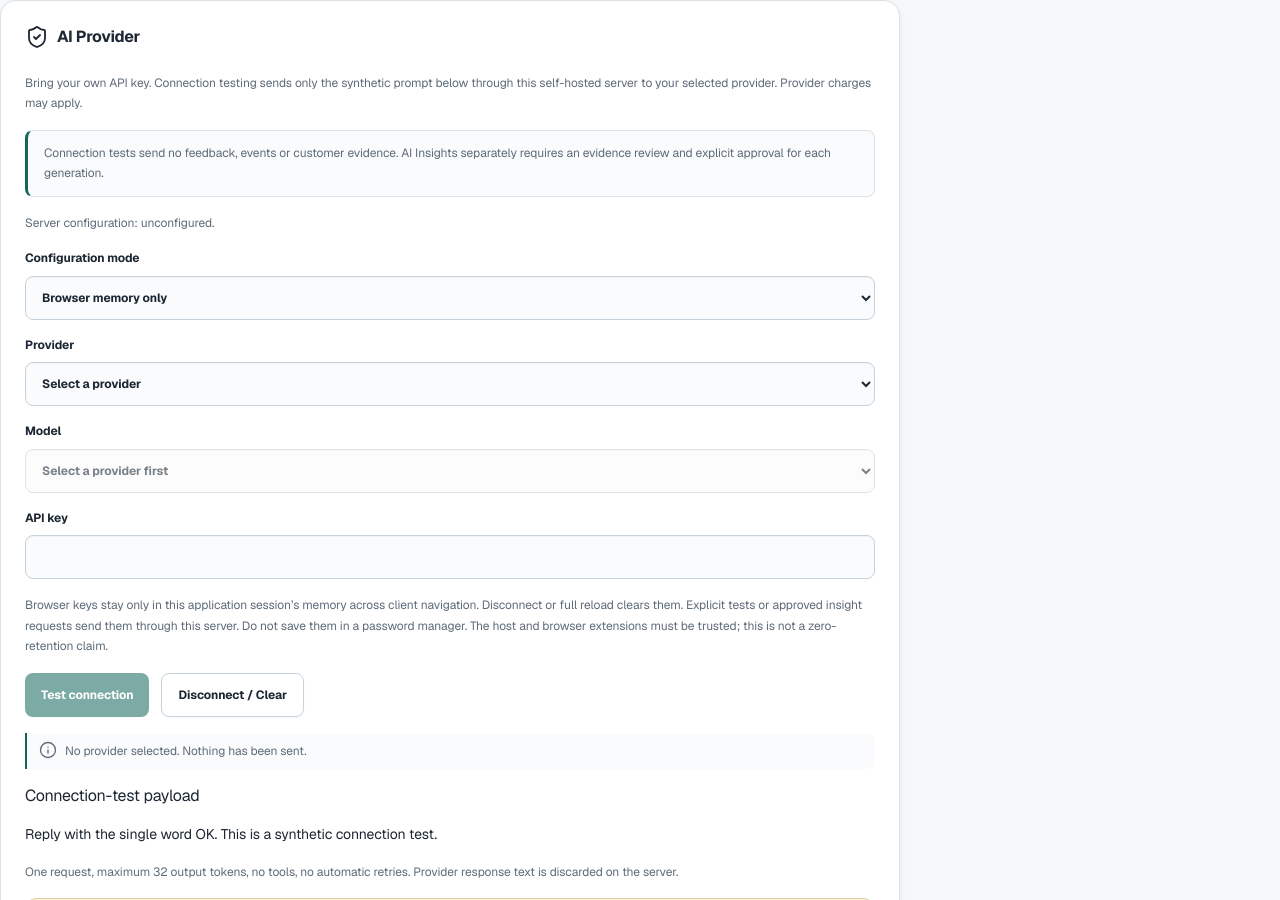
Scenario: typing never transmits or persists keys; explicit test posts only a bounded selection and key
Check: the text "Server configuration: unconfigured." is shown, box [25, 215, 214, 231]
Select "OpenAI" in the dropdown labelled "Provider": [450, 384] box [25, 362, 875, 406]
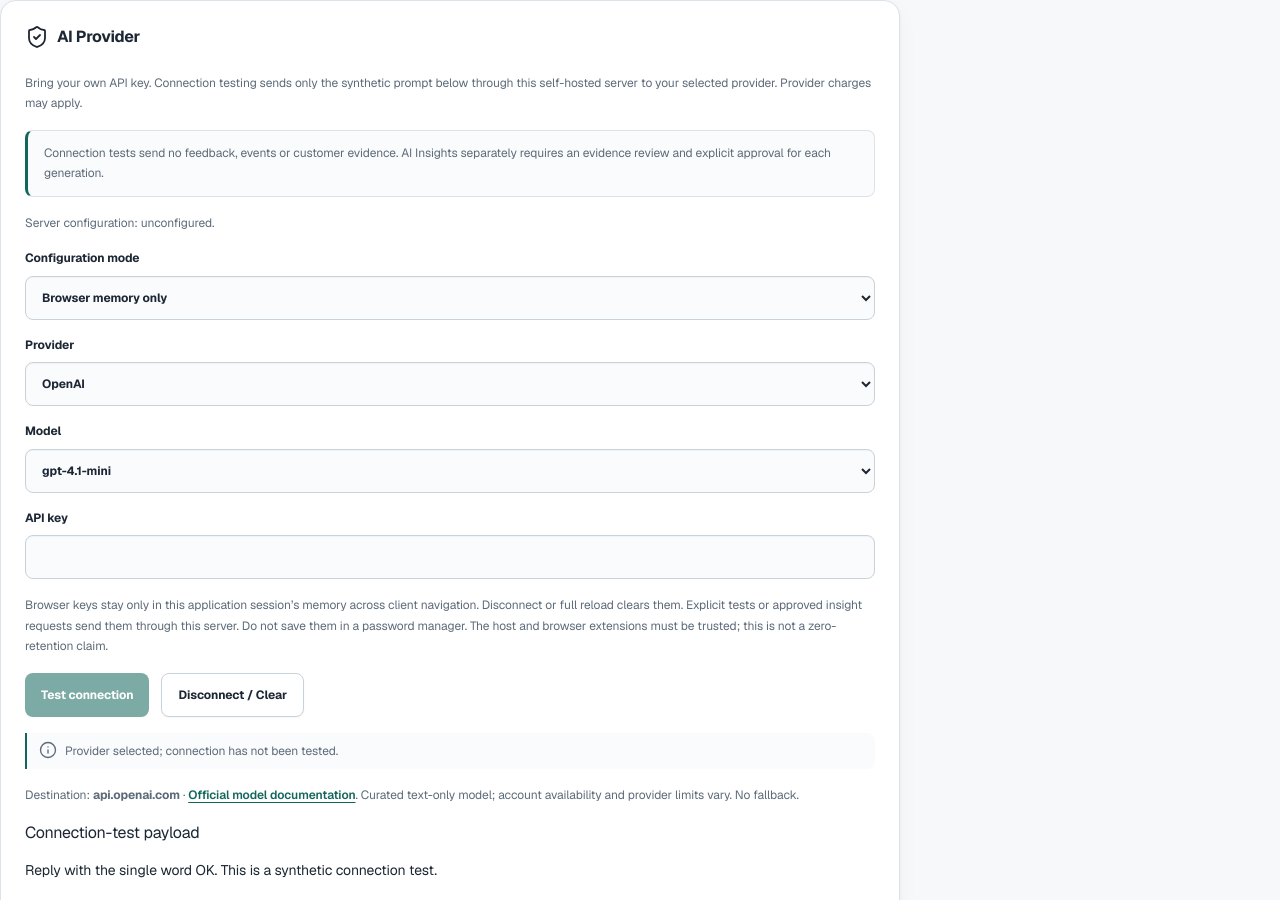
In the password field labelled "API key": [450, 557] box [25, 535, 875, 579], type "unit-test-value-not-a-credential"
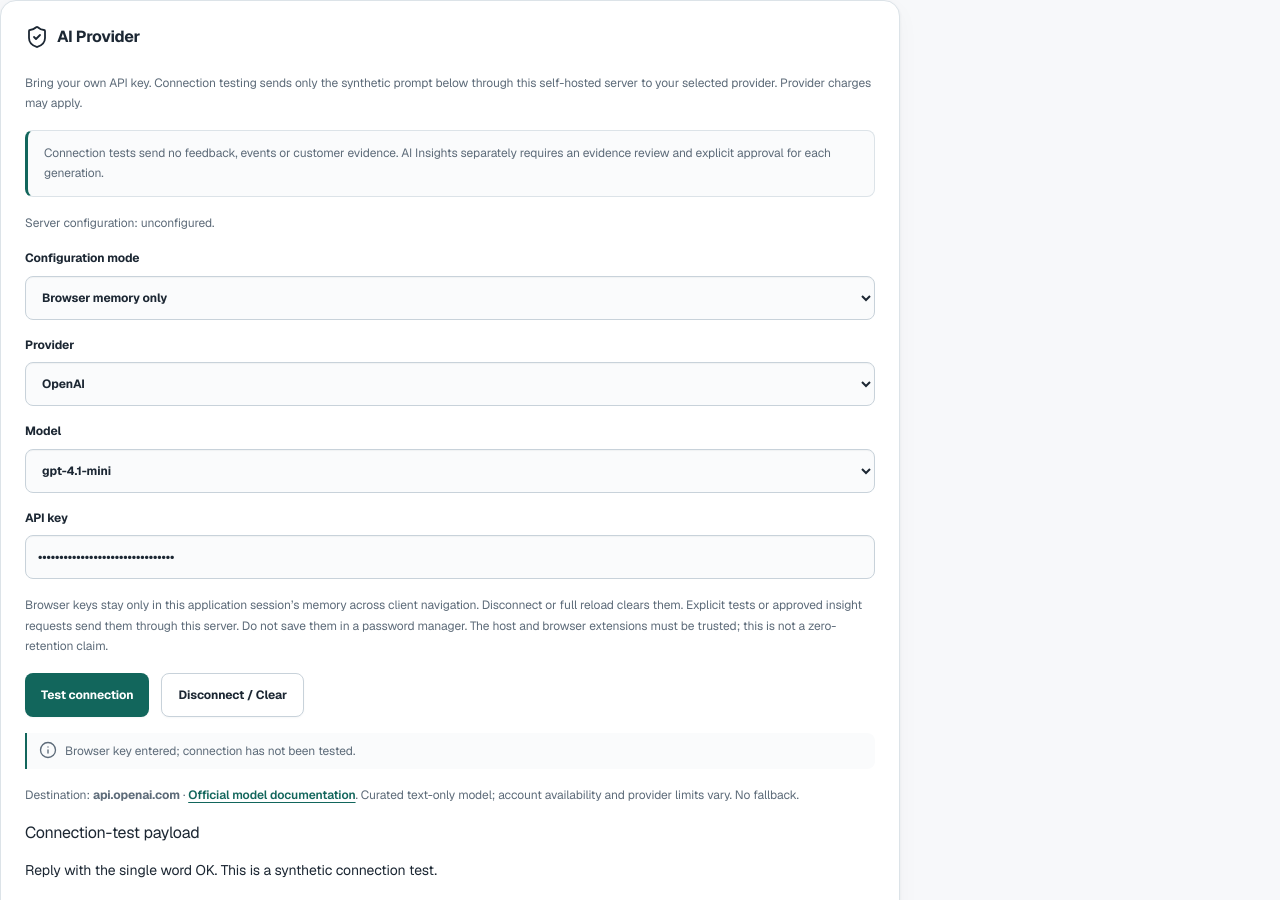
Click the button "Test connection": [87, 695] box [25, 673, 150, 717]
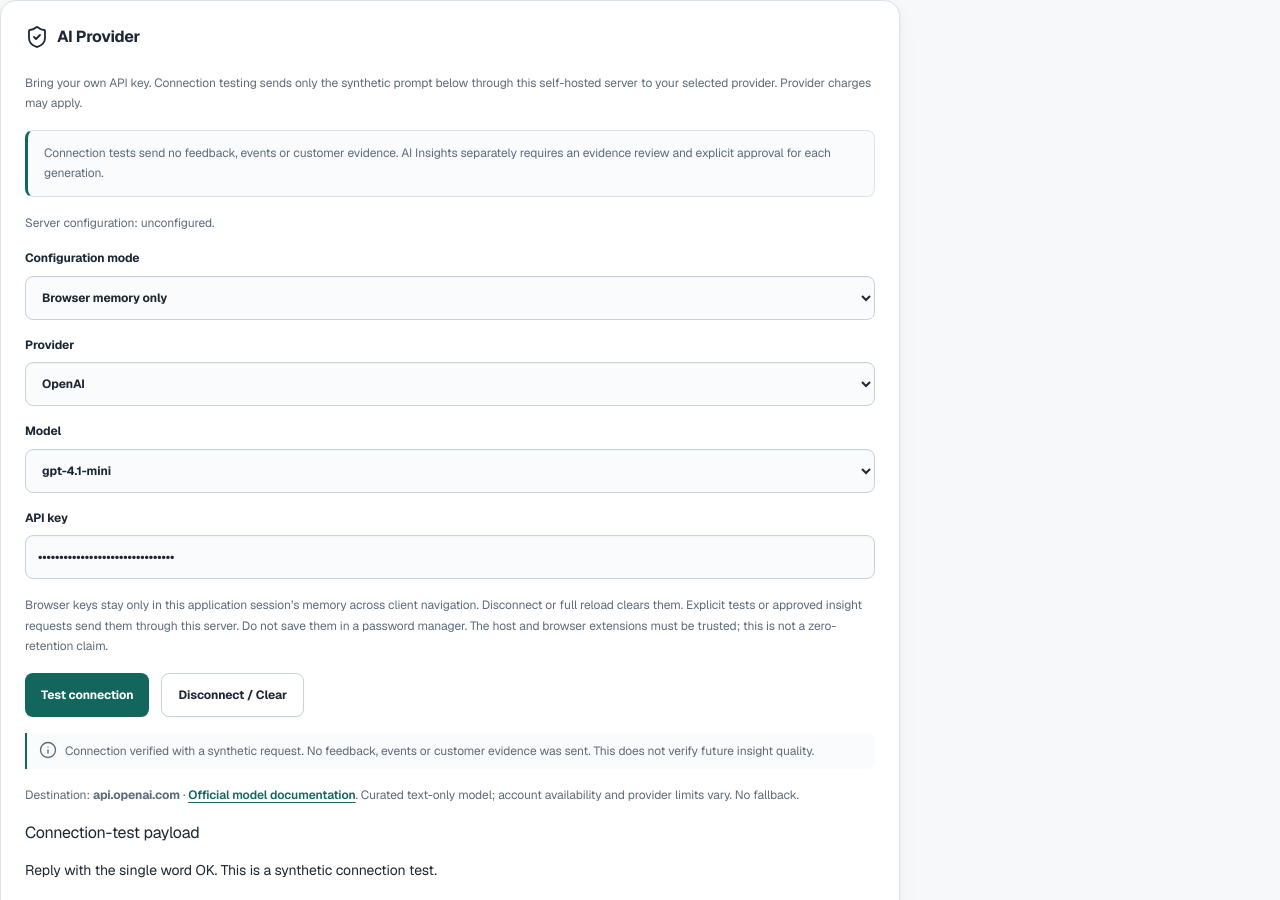
Check: the text "Connection verified with a synthetic request" is shown, box [65, 743, 814, 759]
